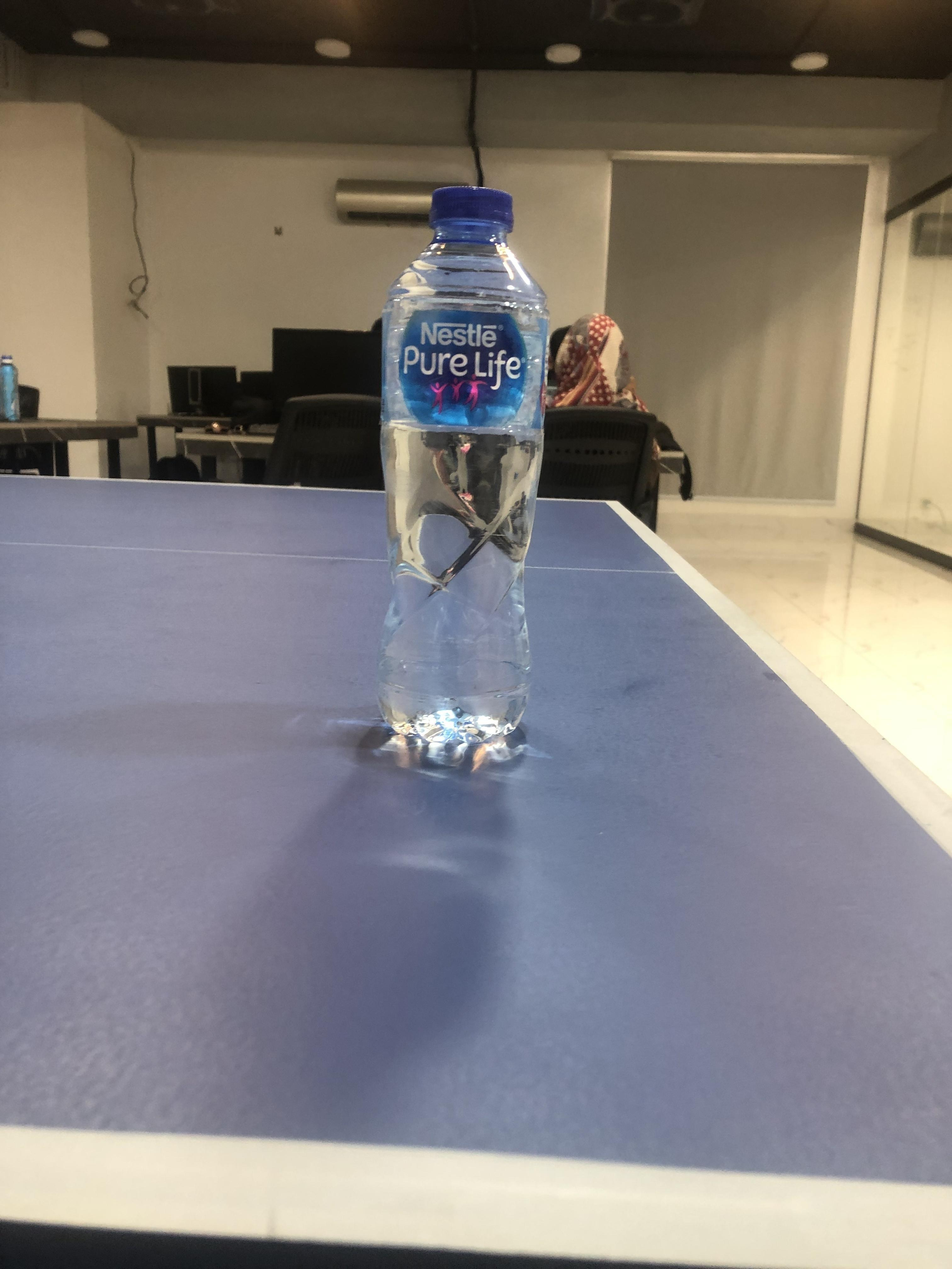bottle-plastic: (363, 178, 563, 788)
